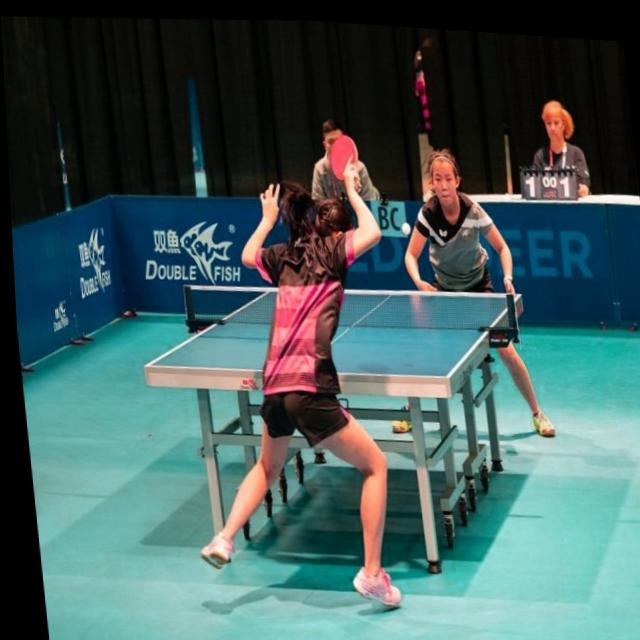TT Net: (180, 282, 520, 336)
TT Racket: (319, 129, 367, 186)
TT Table: (145, 288, 521, 377)
